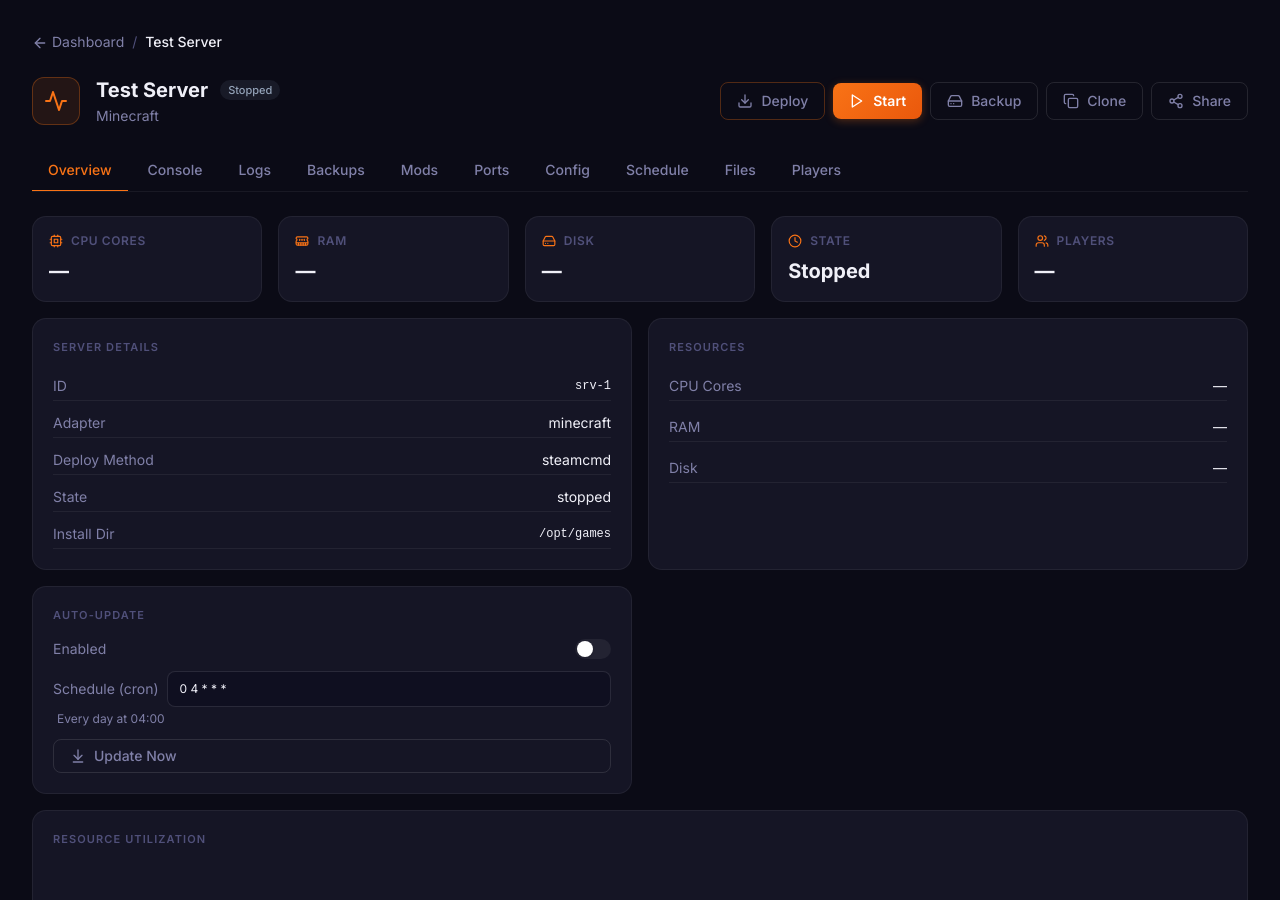
ServerDetailPage › switches to Files tab and shows empty directory state
The width and height of the screenshot is (1280, 900).
Click the button "Files". click: x=740, y=171
box: [709,150,772,192]
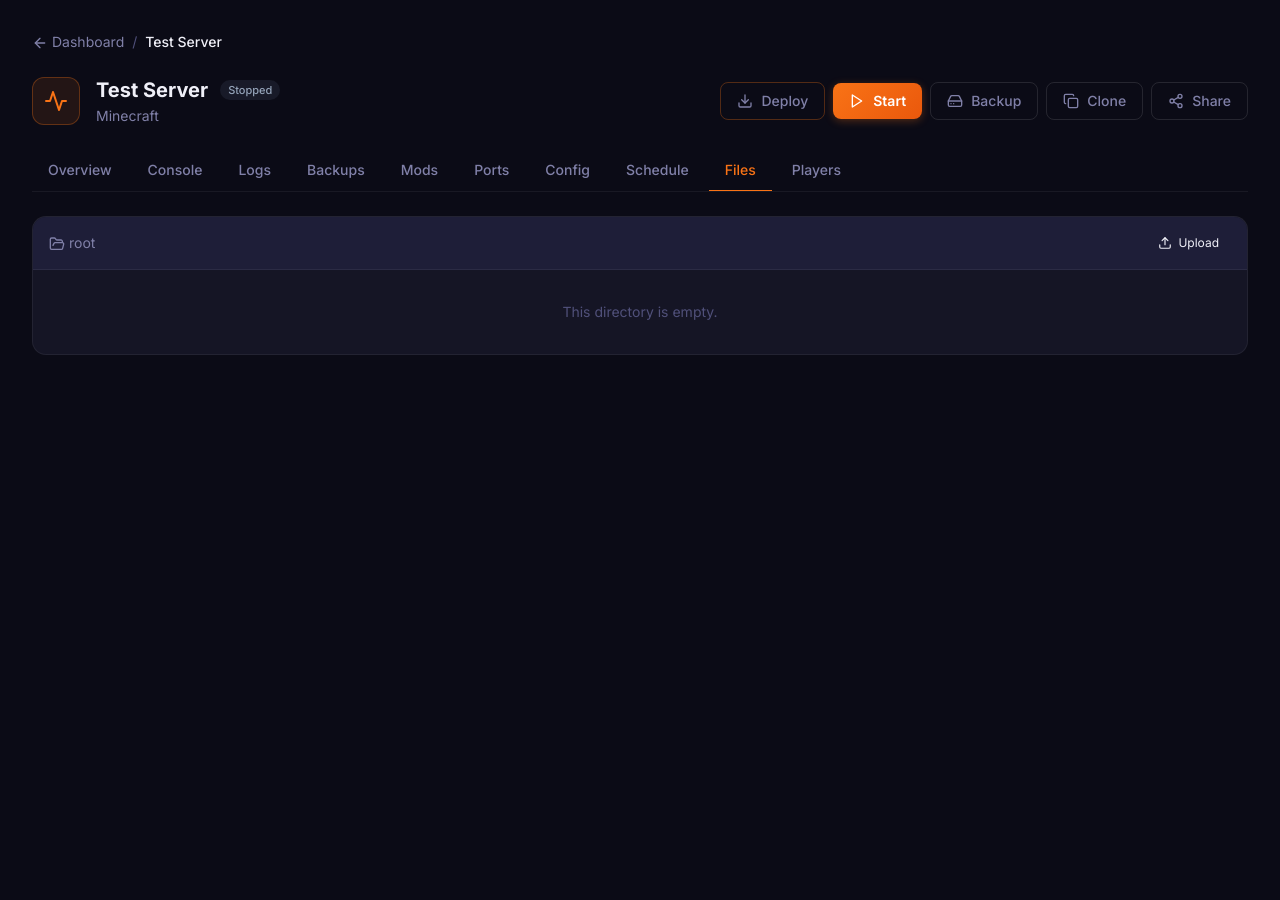
Result: the text "This directory is empty." is shown at [562,303,718,320]
